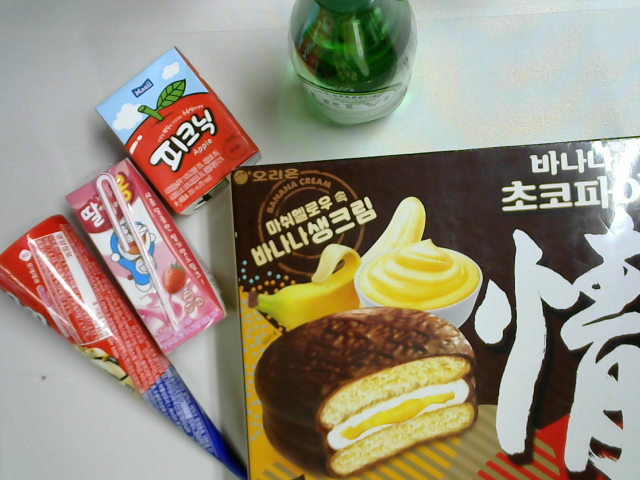Choco_Pie_Banana: (221, 131, 640, 479)
Picnic_Apple: (92, 39, 267, 223)
Strawberry_E_Mong: (61, 152, 234, 358)
Treviraim_500ml: (279, 1, 427, 140)
World_Cone_Banila: (1, 204, 258, 480)
